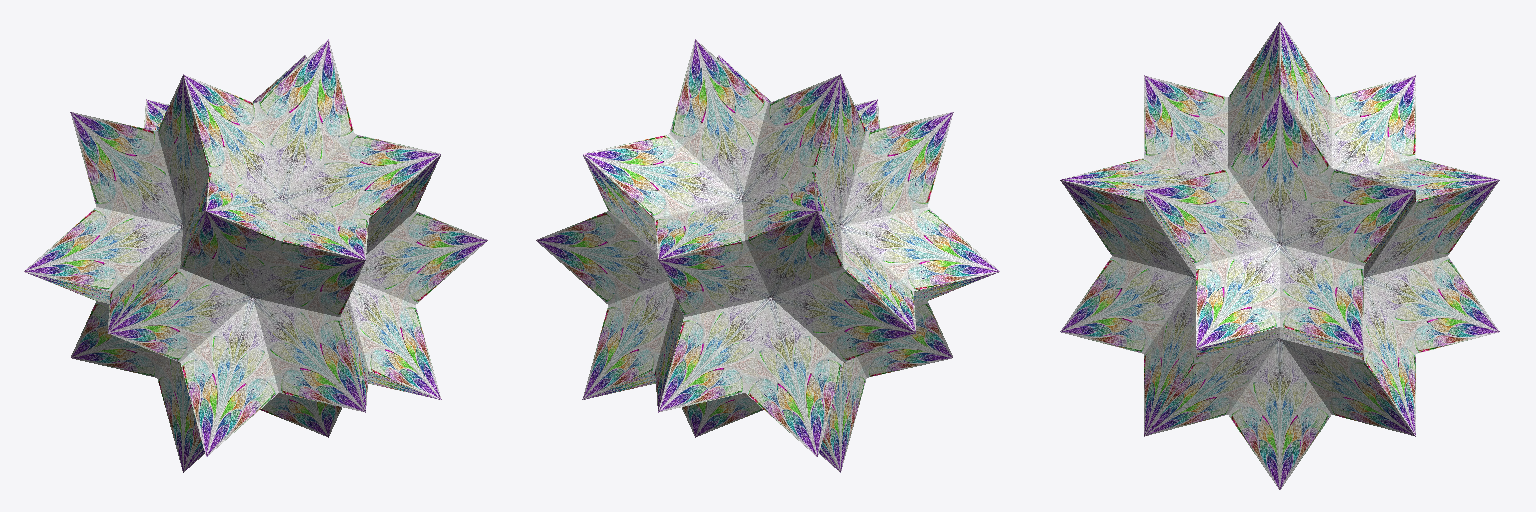
3 renders of one model, left to right at view 1: azimuth 30°, elevation 25°; view 2: azimuth 150°, elevation 25°; view 3: azimuth 270°, elevation 25°, orthographic.
Size of the model in its own units: 4.45 by 4.45 by 4.45.
1 materials, 1 textured.